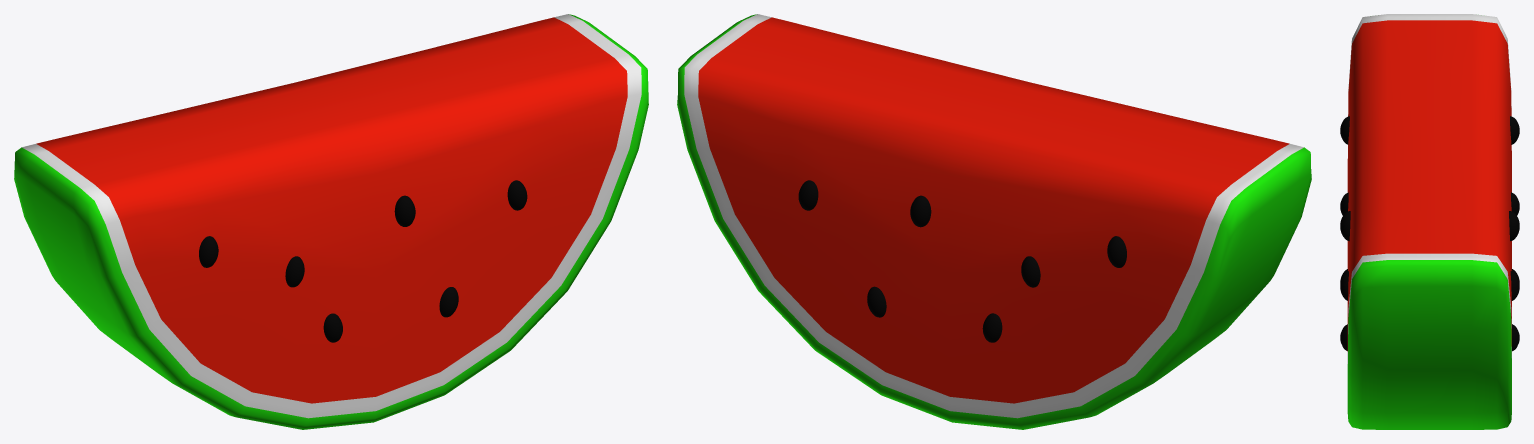
The model's file is Watermelon.fbx.
The picture shows the model from 3 angles, left to right: view 1: azimuth 30°, elevation 25°; view 2: azimuth 150°, elevation 25°; view 3: azimuth 270°, elevation 25°; orthographic projection. The views are drawn at different scales.
Visible parts, largest first — view 1: Watermelon; view 2: Watermelon; view 3: Watermelon.
Part boxes in pixels (x1,y1,x2,y2): Watermelon: [14, 14, 648, 429]; Watermelon: [677, 14, 1311, 429]; Watermelon: [1340, 14, 1519, 429].
Size of the model in its own units: 194 by 95.53 by 58.35.
